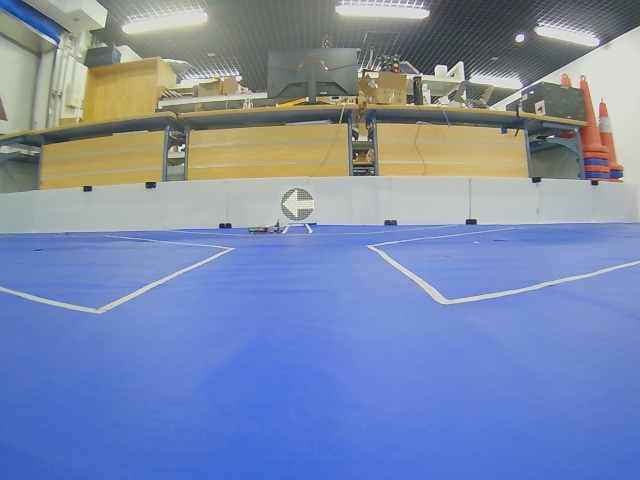left_yellow: (282, 188, 315, 221)
